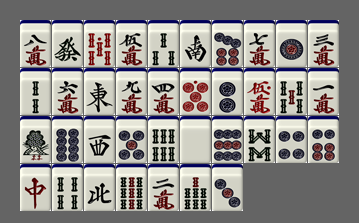0m: (244, 68, 275, 115)
0p: (180, 68, 211, 115)
0s: (84, 20, 115, 67)
1m: (308, 68, 339, 115)
1p: (276, 20, 307, 67)
1s: (20, 116, 51, 163)
1z: (84, 68, 115, 115)
2m: (148, 164, 179, 211)
2p: (212, 68, 243, 115)
2s: (20, 68, 51, 115)
2z: (180, 20, 211, 67)
3m: (308, 20, 339, 67)
3p: (212, 164, 243, 211)
3s: (148, 20, 179, 67)
3z: (84, 116, 115, 163)
4m: (148, 68, 179, 115)
4p: (276, 116, 307, 163)
4s: (52, 164, 83, 211)
4z: (84, 164, 115, 211)
5m: (116, 20, 147, 67)
5p: (116, 116, 147, 163)
5s: (276, 68, 307, 115)
5z: (180, 116, 211, 163)
6m: (52, 68, 83, 115)
6p: (308, 116, 339, 163)
6s: (148, 116, 179, 163)
6z: (52, 20, 83, 67)
7m: (244, 20, 275, 67)
7p: (212, 20, 243, 67)
7s: (180, 164, 211, 211)
7z: (20, 164, 51, 211)
8m: (20, 20, 51, 67)
8p: (52, 116, 83, 163)
8s: (244, 116, 275, 163)
9m: (116, 68, 147, 115)
9p: (212, 116, 243, 163)
9s: (116, 164, 147, 211)
